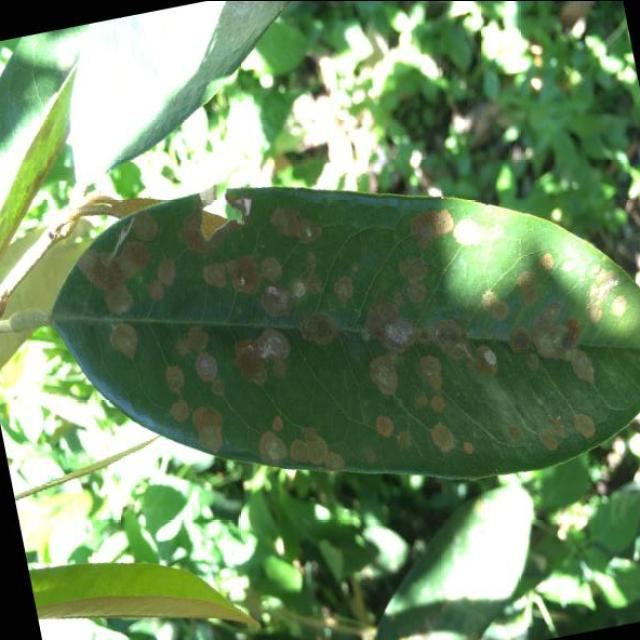Algal Leaf Spot: (20, 98, 640, 560)
